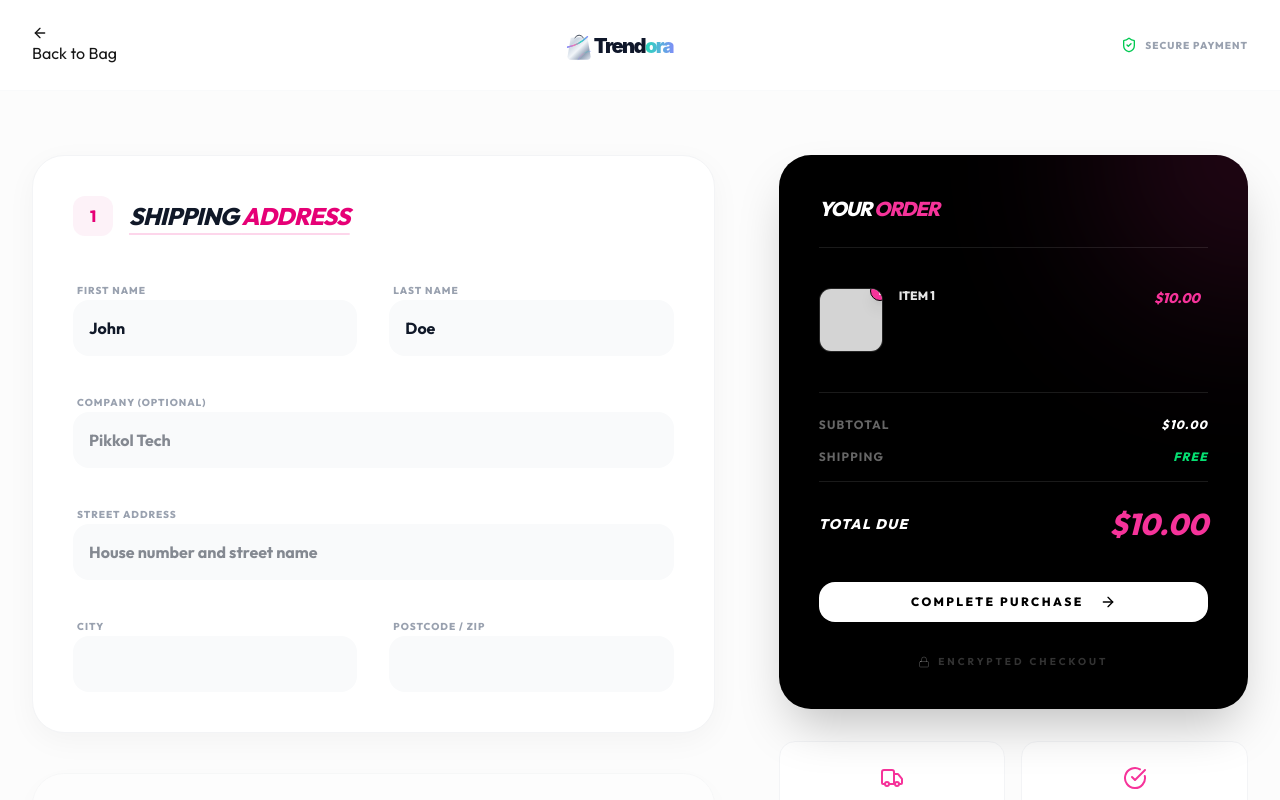
Test: Checkout Component › handles order placement
Click the button "COMPLETE PURCHASE" at (1013, 602), box [819, 582, 1208, 622]
Wait 2000 ms
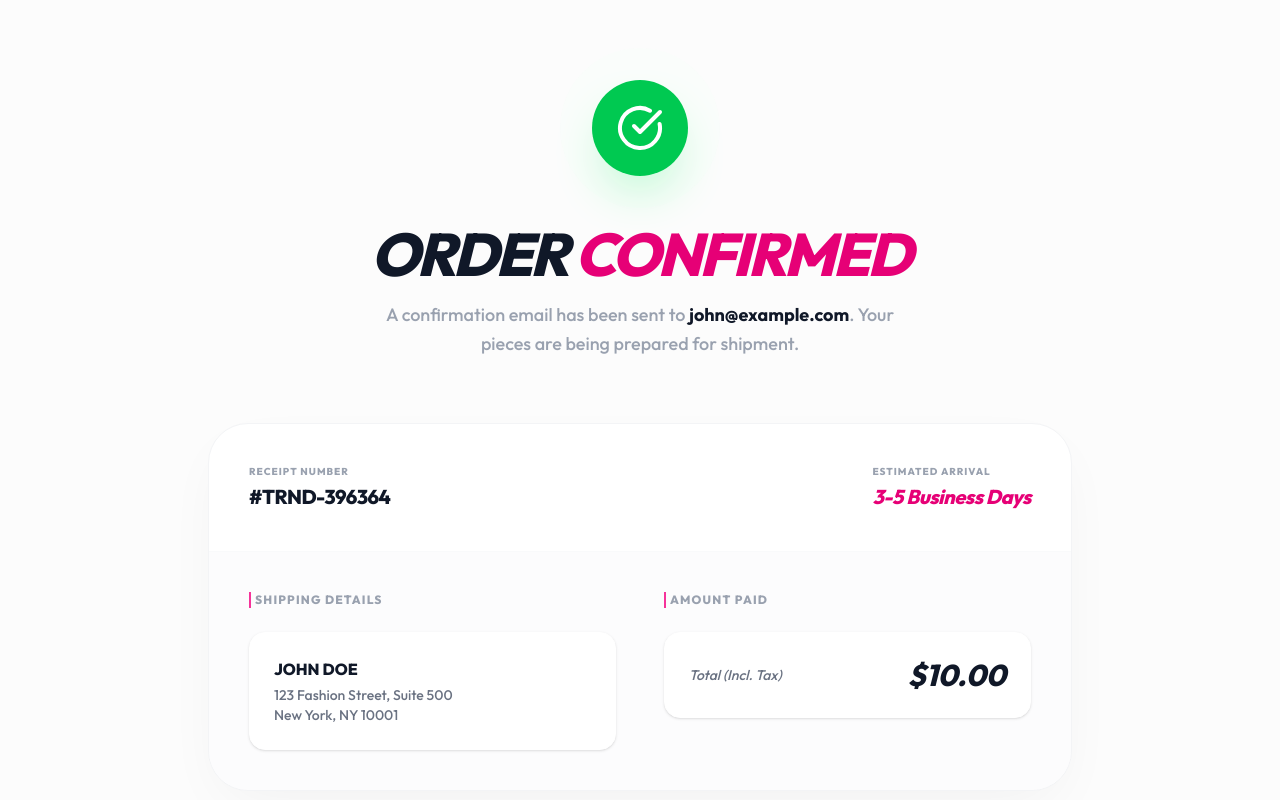
Expected: the heading "ORDER CONFIRMED" is shown, [371, 216, 910, 292]
